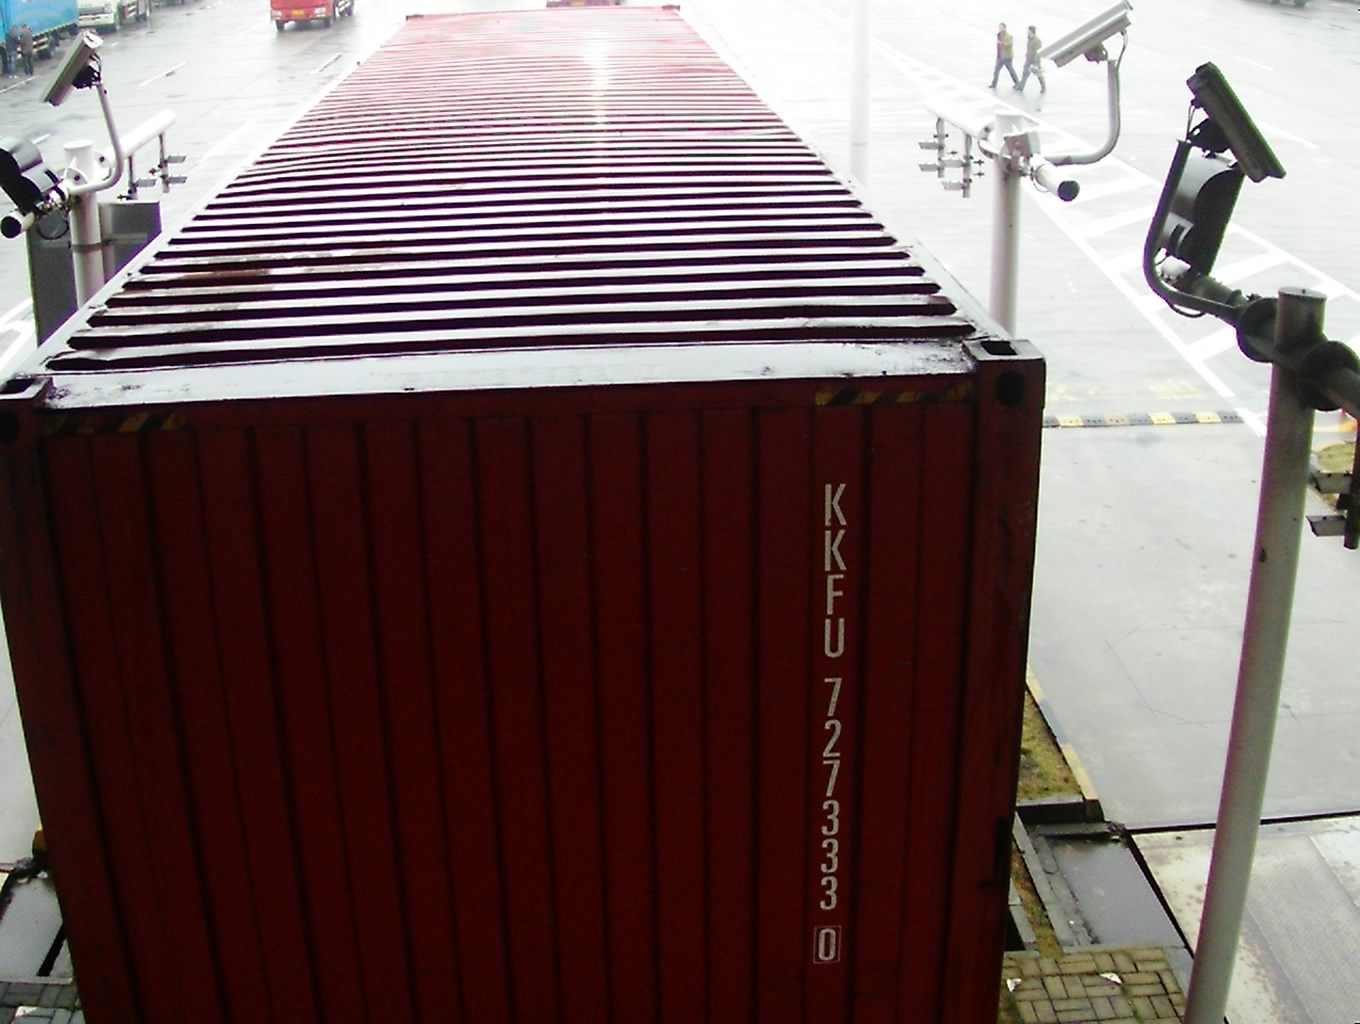words: (808, 477, 851, 967)
